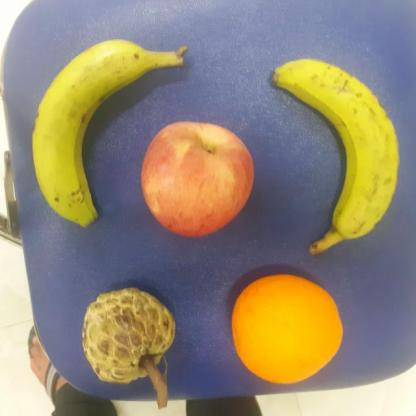annona: (79, 287, 180, 391)
apple: (138, 119, 256, 233)
banana: (248, 53, 399, 244), (27, 31, 143, 231)
orange: (228, 269, 346, 386)
